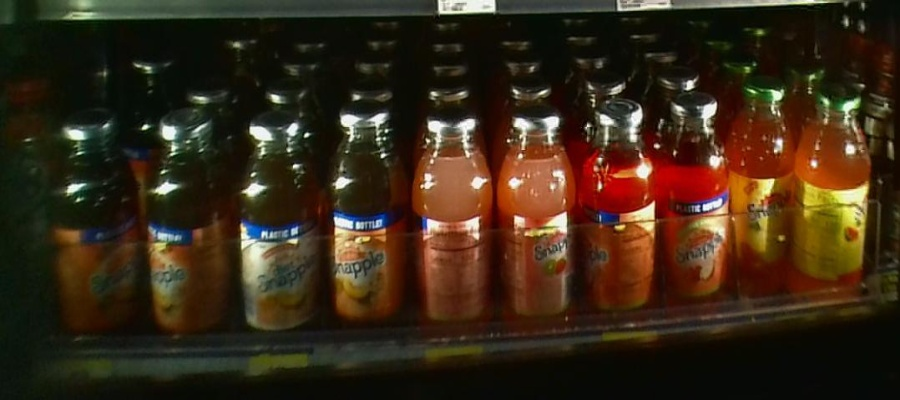bottle: (49, 106, 143, 352), (229, 110, 321, 348), (493, 97, 578, 339), (146, 108, 227, 350), (407, 107, 493, 332), (575, 94, 657, 329), (322, 101, 402, 333), (792, 67, 872, 296), (658, 86, 731, 323), (730, 77, 791, 291)
